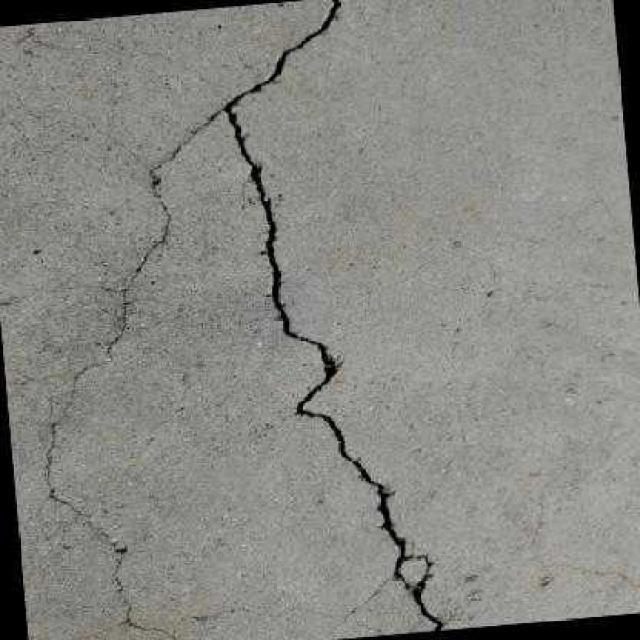D00: (220, 0, 444, 631), (41, 107, 218, 640)
